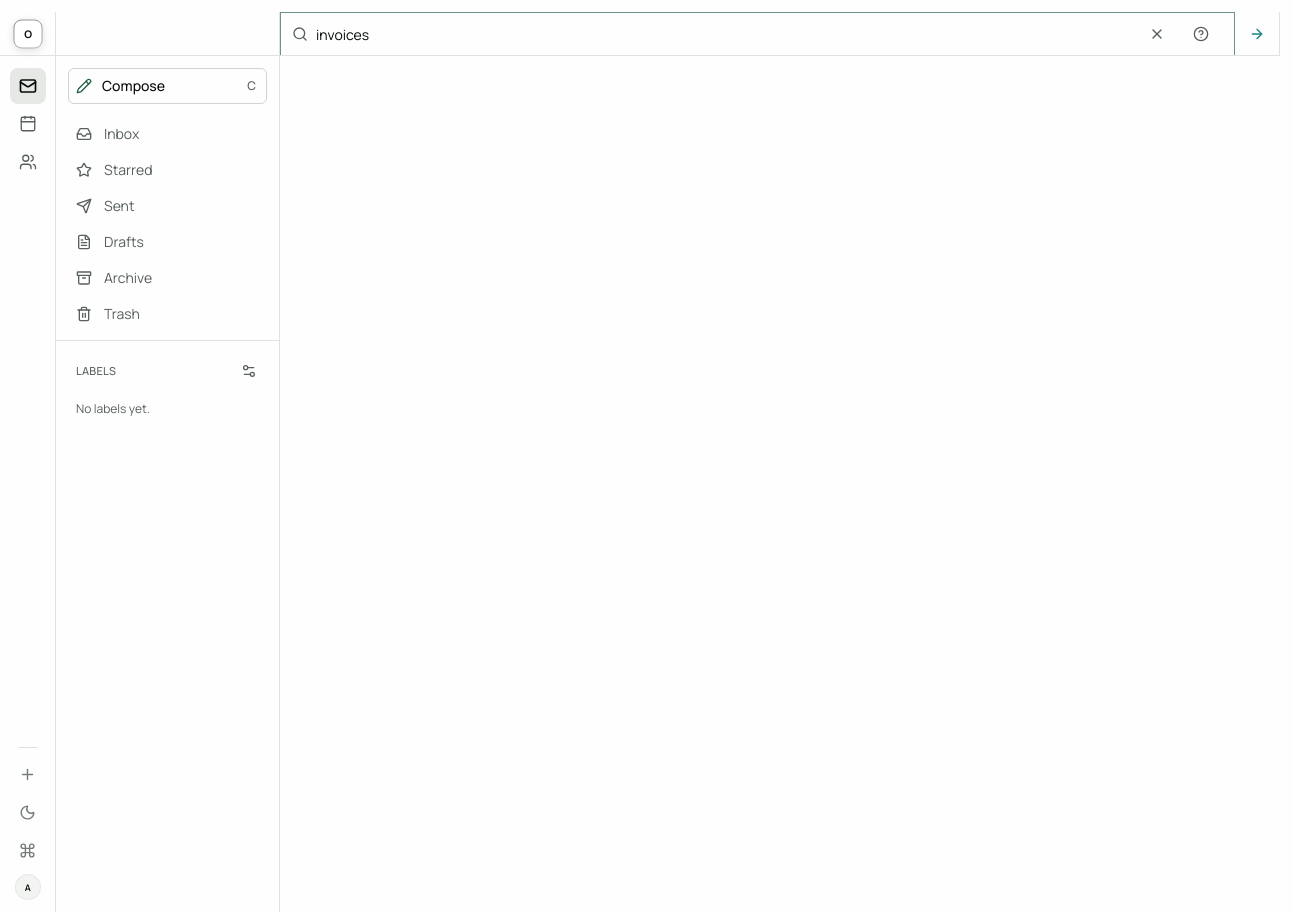
Test: MailRouteScreen — search navigation › shows the search query from the route and clears it via the clear button
Expected: the dropdown named "Search mail" holds "invoices", [308, 12, 1135, 56]
Click the button named "Clear search": (1157, 34) [1135, 12, 1179, 56]
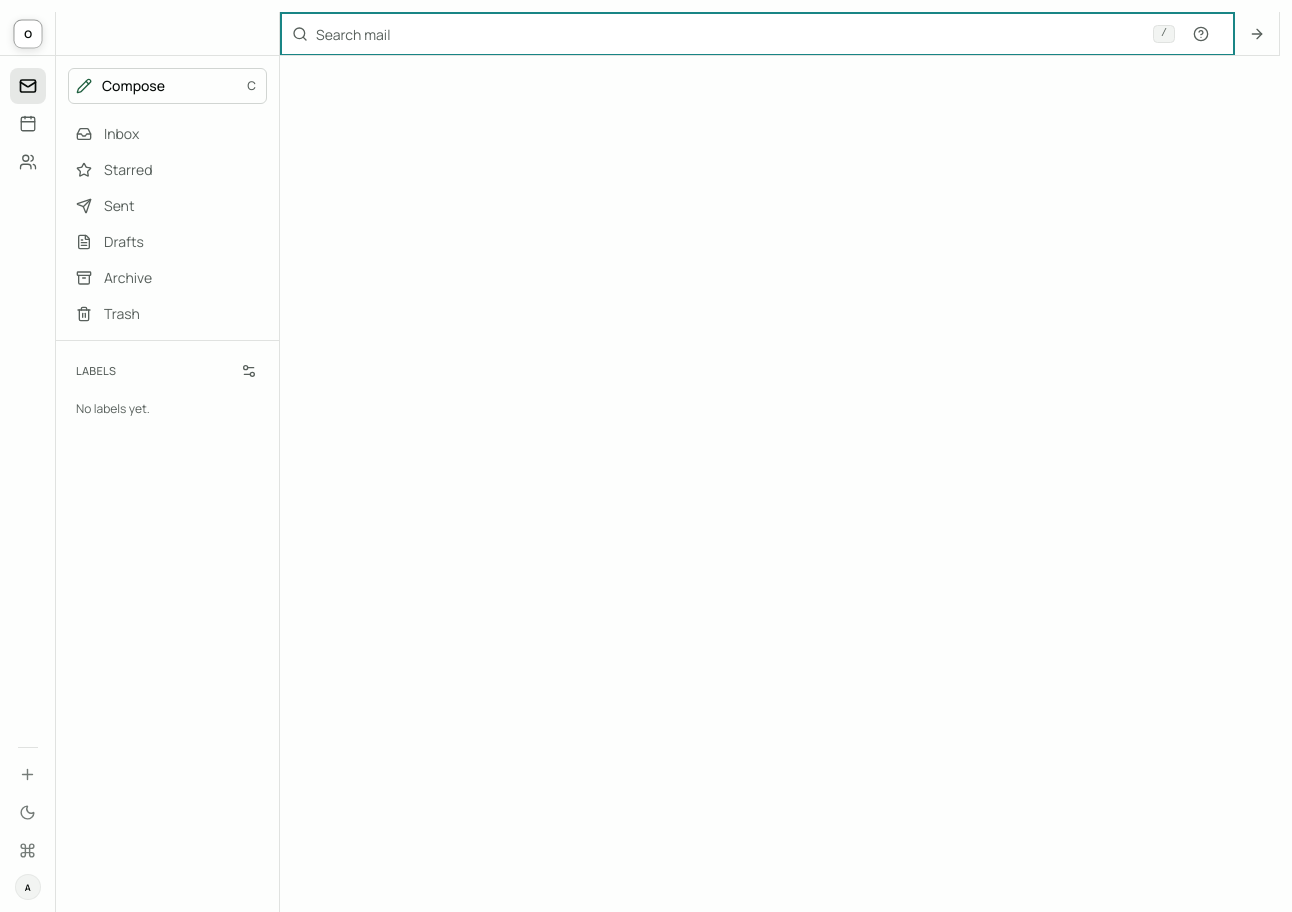
Now the dropdown labelled "Search mail" is empty, box [308, 12, 1153, 56]
Now the text "/" is shown, box [1153, 25, 1175, 43]
